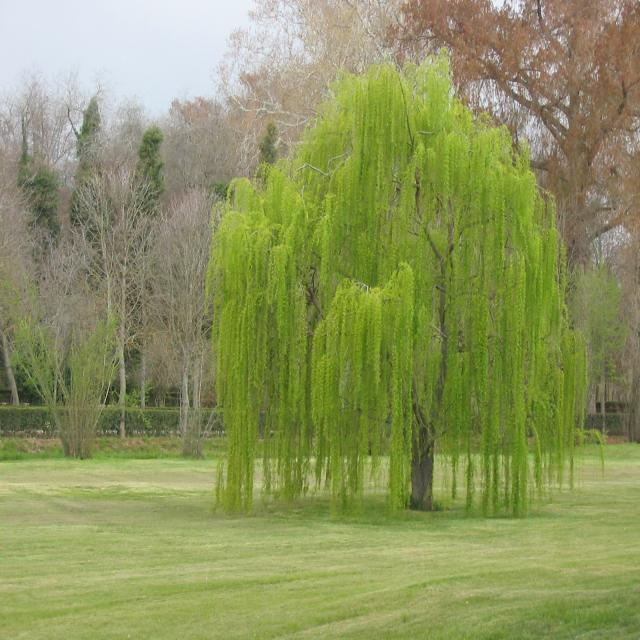cauce: (207, 59, 565, 514)
